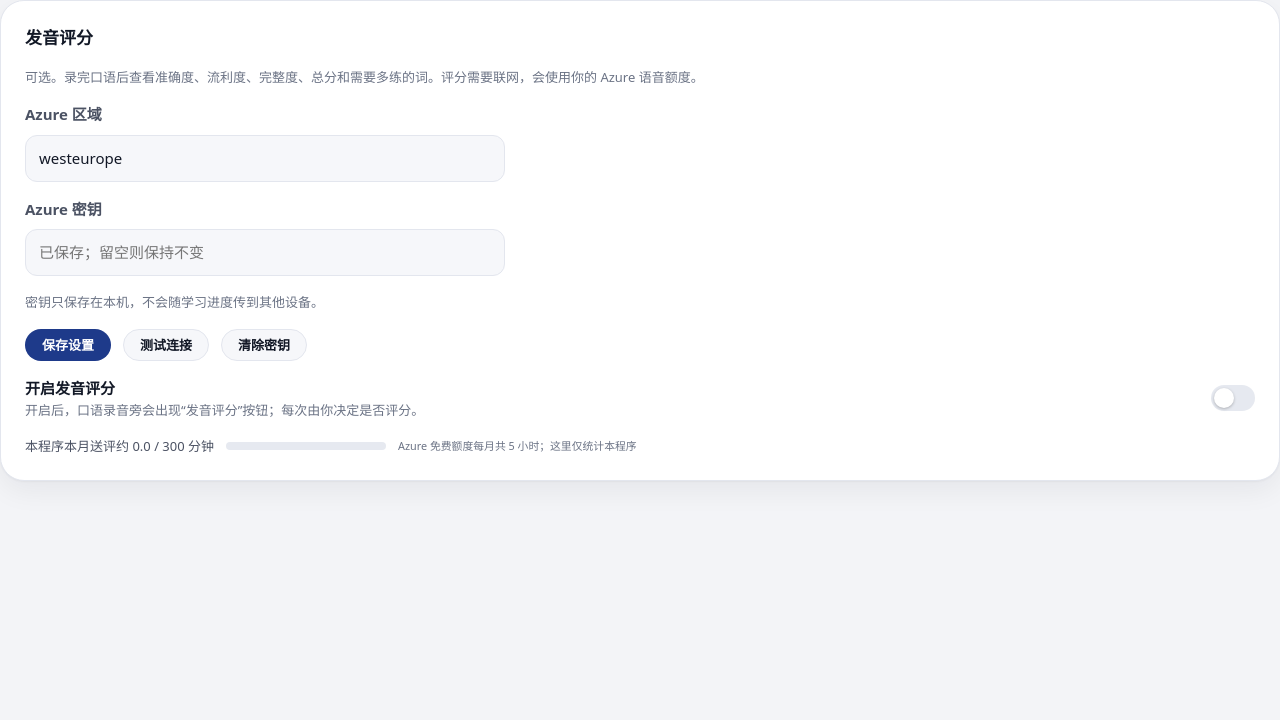
it: explains an invalid key without clearing the saved key
Click the button "测试连接" at (166, 345), box [123,329,209,361]
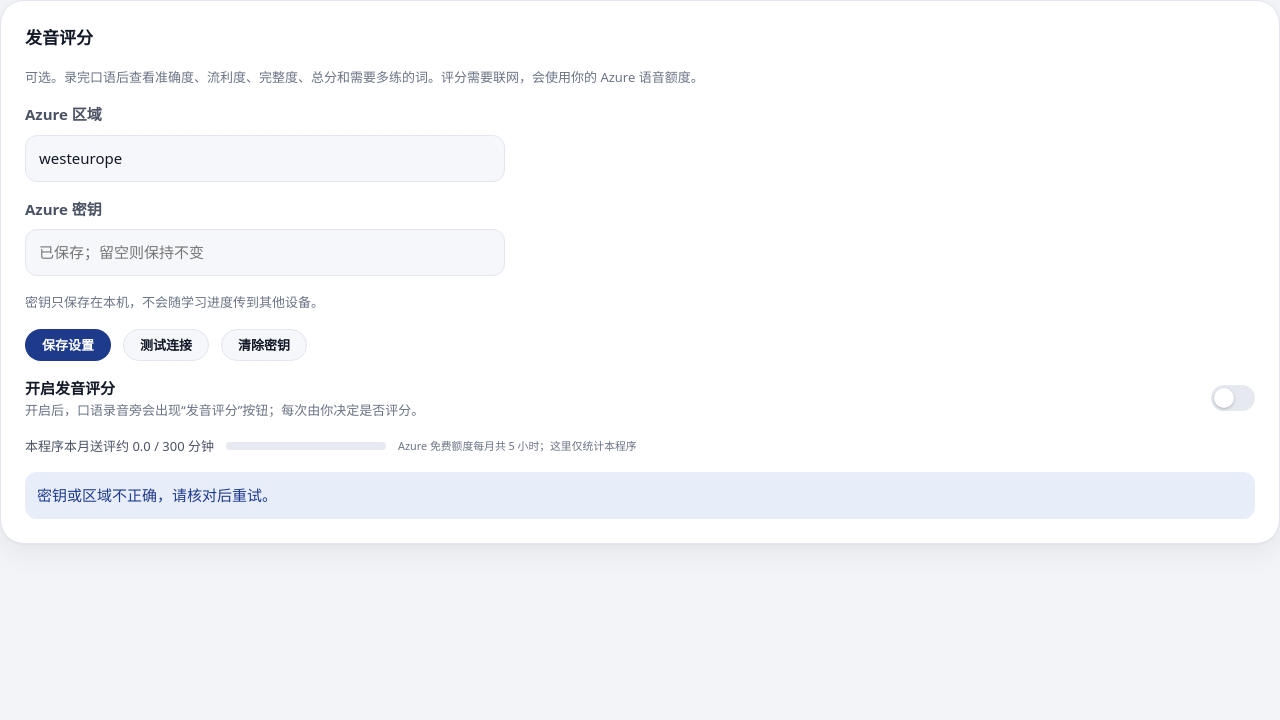
Expected: the text "密钥或区域不正确，请核对后重试。" is shown, [25,472,1255,520]
